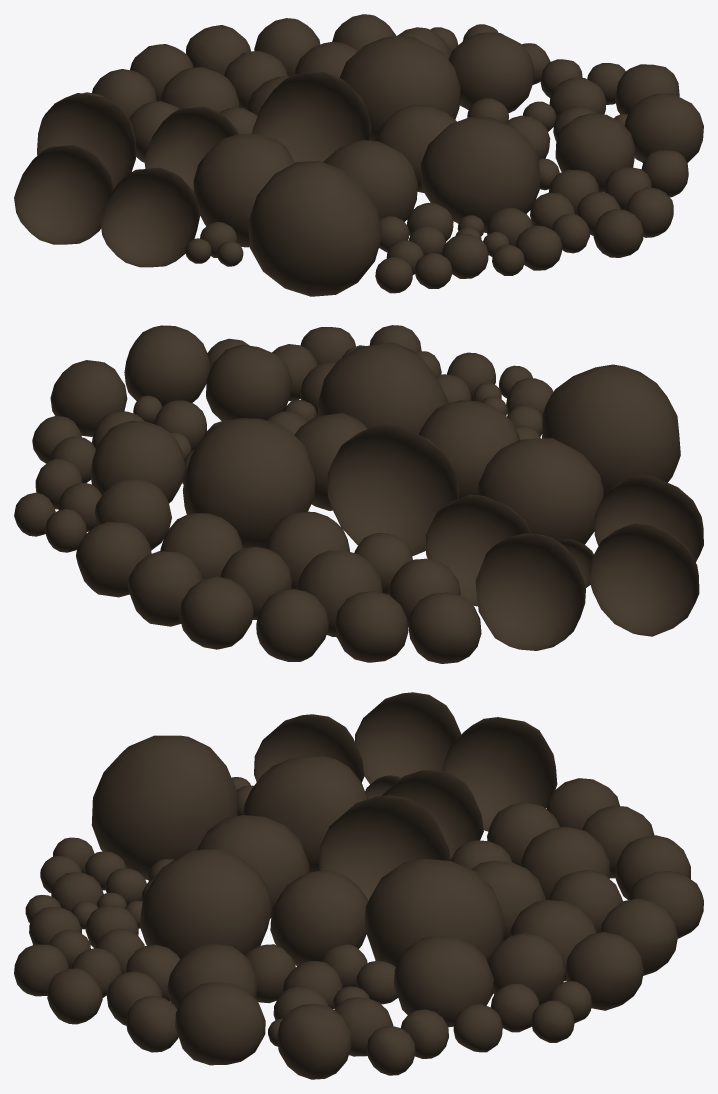
The model's file is Fertilizer.fbx.
The picture shows the model from 3 angles, top to bottom: view 1: azimuth 30°, elevation 25°; view 2: azimuth 150°, elevation 25°; view 3: azimuth 270°, elevation 25°; orthographic projection. The views are drawn at different scales.
Visible parts, largest first — view 1: Fertilizer.002; view 2: Fertilizer.002; view 3: Fertilizer.002.
Part boxes in pixels (box(x1,y1,x2,y2)): Fertilizer.002: box(14, 14, 703, 296); Fertilizer.002: box(14, 325, 703, 663); Fertilizer.002: box(14, 692, 703, 1079).
Bounding box in the file's own units: 13.54 × 2.57 × 11.82.
